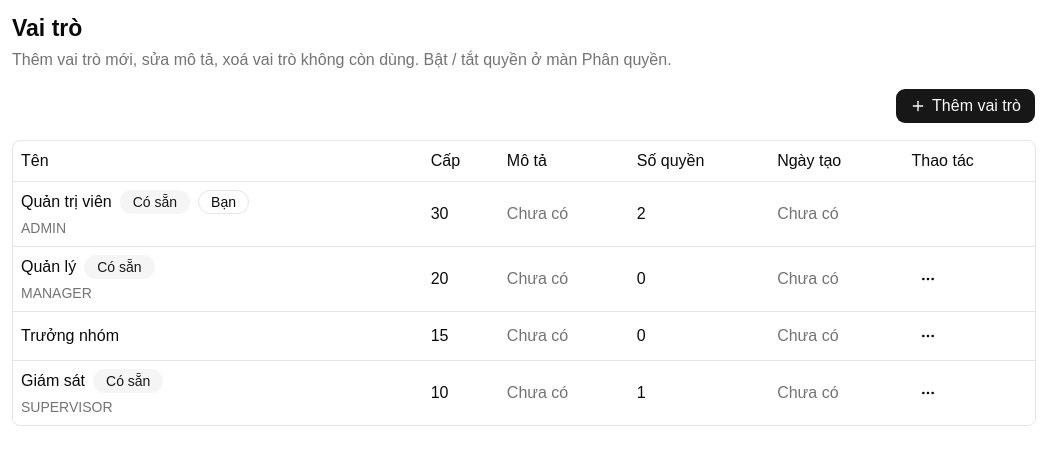
Test: RolesPage › dòng của mình không có ⋯; vai trò có sẵn thấp hơn: Xoá khoá kèm lý do; vai trò tự tạo: Sửa + Xoá
The image size is (1048, 466).
Expected: the text "Trưởng nhóm" is shown, [21,324,119,348]
Click the button named "Thao tác với Quản lý" at (928, 278), box [912,262,944,294]
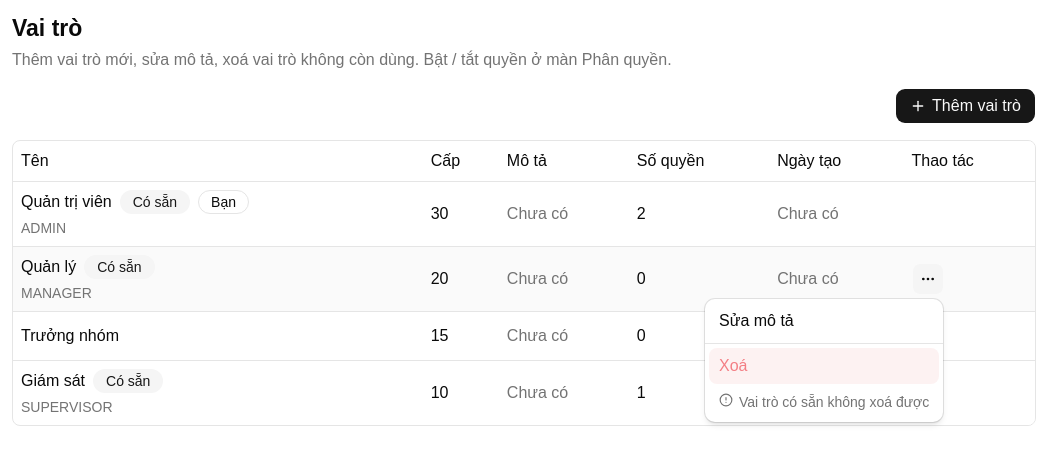
Press Escape
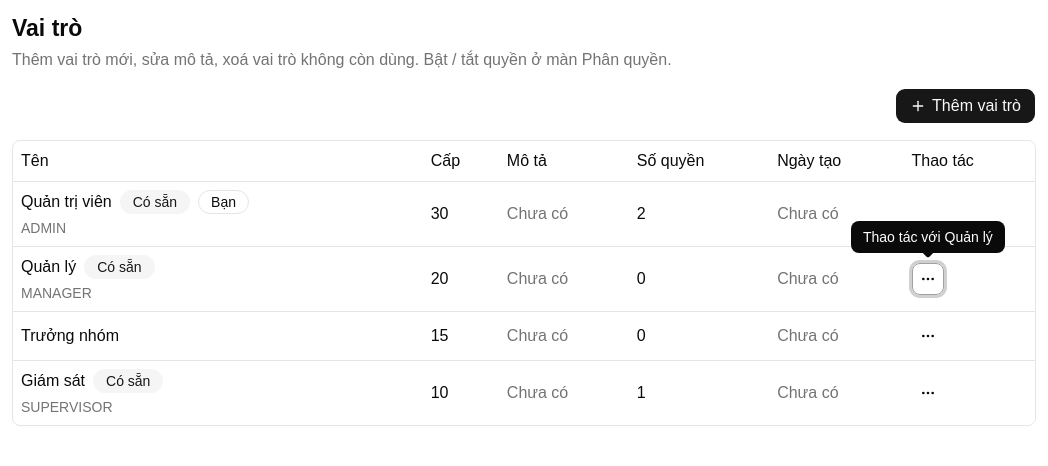
Click the button named "Thao tác với Trưởng nhóm" at (928, 336), box [912,320,944,352]
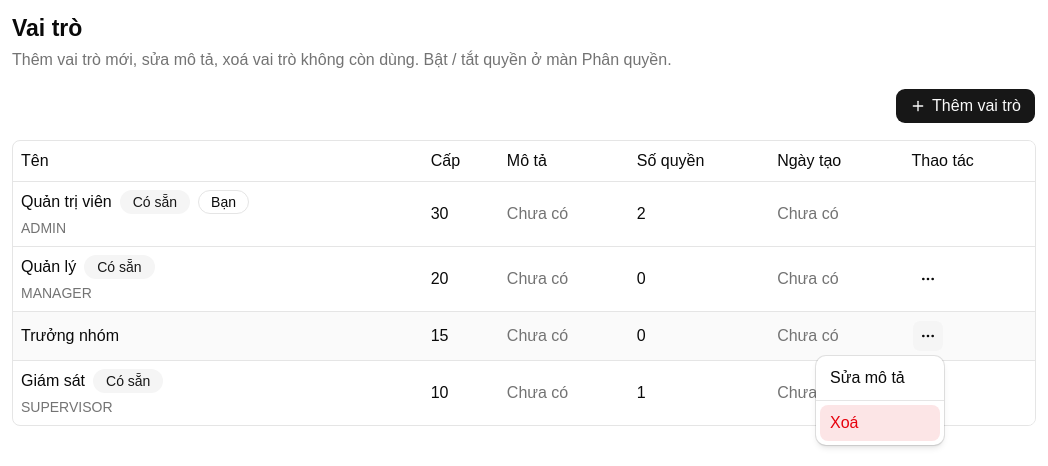
Now the menu item "Sửa mô tả" is shown, box [830,369,905,386]
